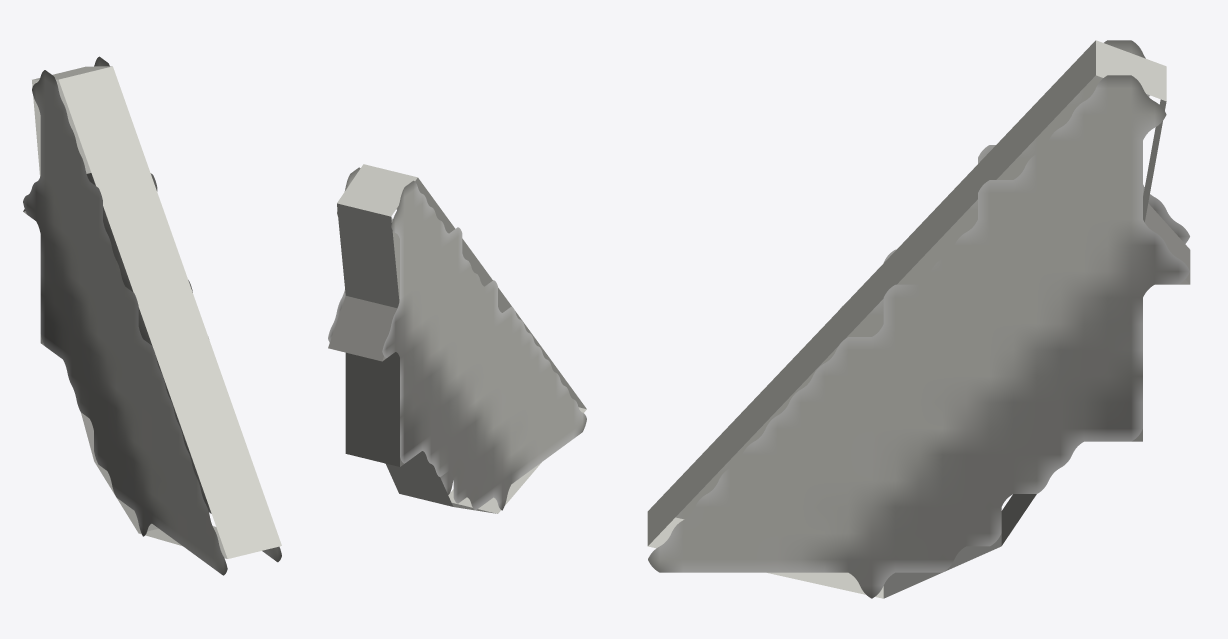
File: pz_native_fixtures_railings_01_103_frame.obj
3 renders of one model, left to right at view 1: azimuth 30°, elevation 25°; view 2: azimuth 150°, elevation 25°; view 3: azimuth 270°, elevation 25°, orthographic. The views are drawn at different scales.
Visible parts, largest first — view 1: pz_native_fixtures_railings_01_103_frame; view 2: pz_native_fixtures_railings_01_103_frame; view 3: pz_native_fixtures_railings_01_103_frame.
Boxes of the visible parts, x1=… form: pz_native_fixtures_railings_01_103_frame: x1=23, y1=56, x2=281, y2=575; pz_native_fixtures_railings_01_103_frame: x1=328, y1=164, x2=586, y2=513; pz_native_fixtures_railings_01_103_frame: x1=647, y1=40, x2=1190, y2=598.
Bounding box in the file's own units: 0.045 × 0.3438 × 0.3189.
1 material, 1 textured.
